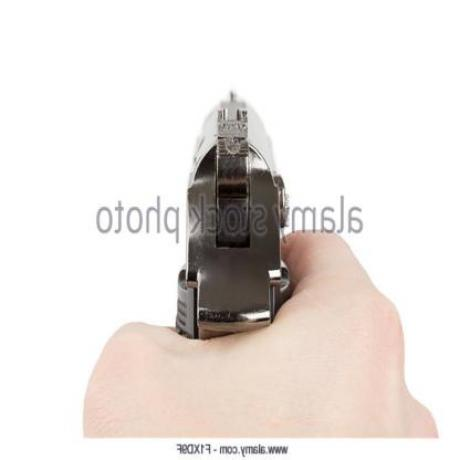1: (76, 226, 434, 438)
weapon: (166, 82, 311, 354)
